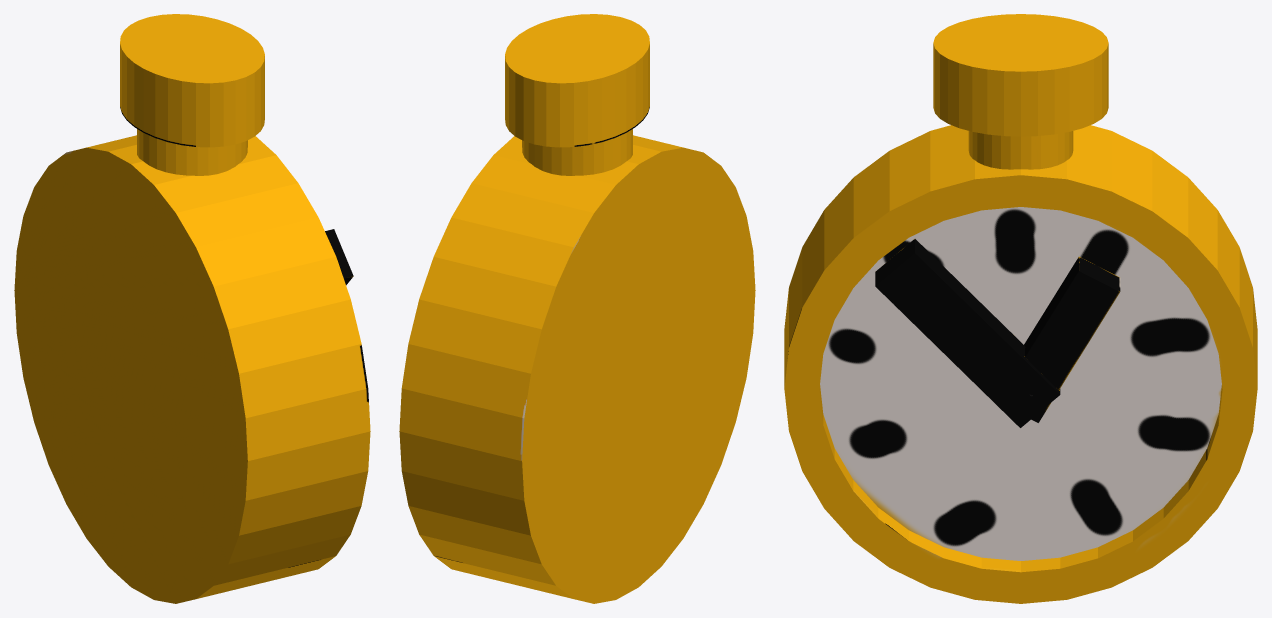
File: pocketwatch.fbx
3 views of the same model, side by side, from view 1: azimuth 30°, elevation 25°; view 2: azimuth 150°, elevation 25°; view 3: azimuth 270°, elevation 25° (orthographic).
Visible parts, largest first — view 1: Cube.001; view 2: Cube.001; view 3: Cube.001.
Boxes of the visible parts, left/top/right/bottom form: Cube.001: left=14, top=14, right=370, bottom=603; Cube.001: left=399, top=14, right=755, bottom=603; Cube.001: left=784, top=14, right=1257, bottom=603.
Bounding box in the file's own units: 74.54 × 248 × 200.
1 material, 1 textured.
